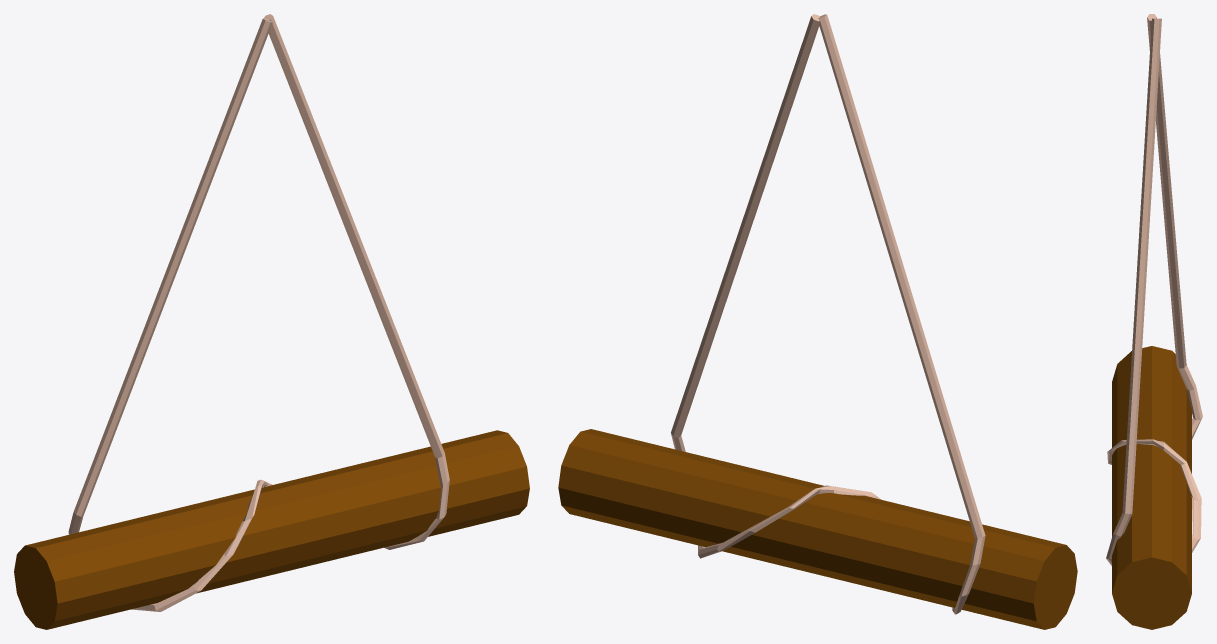
Rendered from tomruk.fbx.
3 renders of one model, left to right at view 1: azimuth 30°, elevation 25°; view 2: azimuth 150°, elevation 25°; view 3: azimuth 270°, elevation 25°, orthographic. The views are drawn at different scales.
Parts seen in each view (by area): view 1: Cylinder.017; view 2: Cylinder.017; view 3: Cylinder.017.
Boxes of the visible parts, x1,y1,x2,y2 form: Cylinder.017: (14, 14, 529, 629); Cylinder.017: (558, 14, 1077, 629); Cylinder.017: (1106, 14, 1202, 629).
Size of the model in its own units: 500 by 567 by 96.82.
